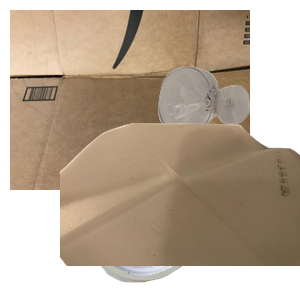cardboard: (10, 10, 250, 190)
glass: (156, 64, 300, 194)
plastic: (60, 120, 300, 300)
trash: (83, 163, 276, 300)
